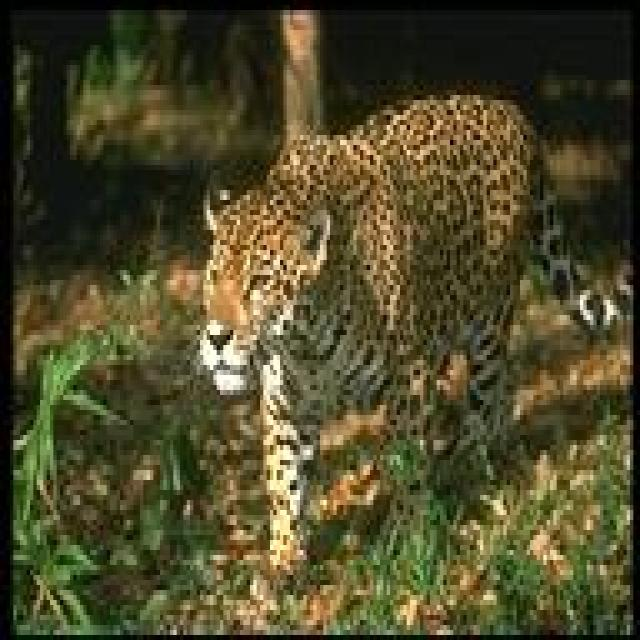Leopard: (196, 95, 616, 574)
